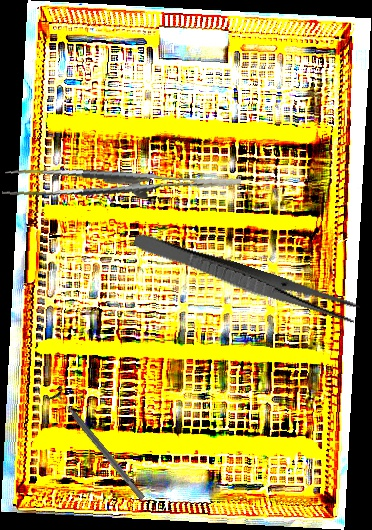Dressing Forceps: (129, 230, 362, 327)
Fixation Ring: (44, 384, 152, 506)
Tissue Forceps: (1, 146, 242, 227)
